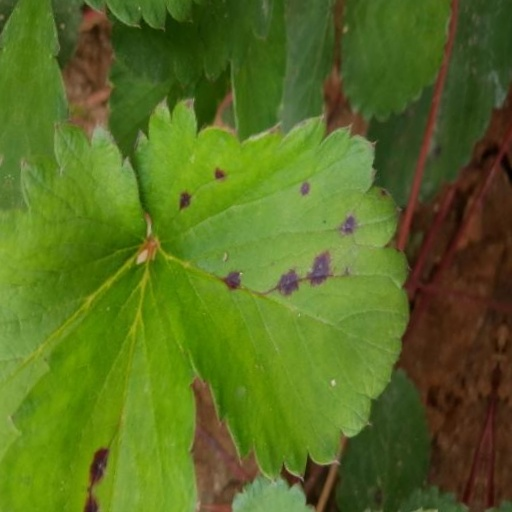Leaf Spot: (117, 106, 416, 477), (26, 262, 237, 511), (348, 0, 496, 187), (365, 342, 459, 511)
